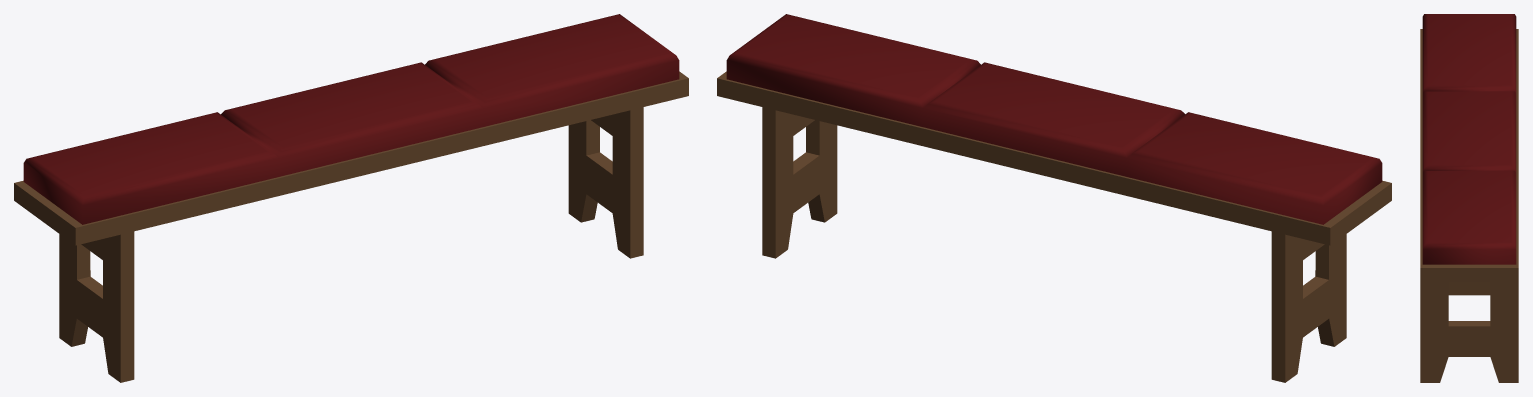
The model's file is benchPadded.fbx.
3 renders of one model, left to right at view 1: azimuth 30°, elevation 25°; view 2: azimuth 150°, elevation 25°; view 3: azimuth 270°, elevation 25°, orthographic. The views are drawn at different scales.
Visible parts, largest first — view 1: Padded Bench; view 2: Padded Bench; view 3: Padded Bench.
Part boxes in pixels (box(x1,y1,x2,y2)): Padded Bench: box(14, 14, 688, 382); Padded Bench: box(717, 14, 1391, 382); Padded Bench: box(1420, 14, 1518, 382).
Size of the model in its own units: 158 by 27.45 by 47.13.
